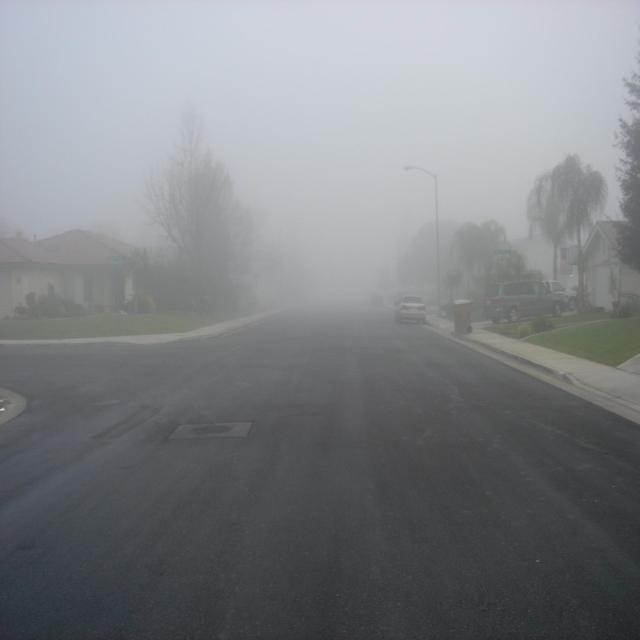Car: (489, 278, 554, 326), (391, 289, 430, 332), (545, 278, 580, 314)
